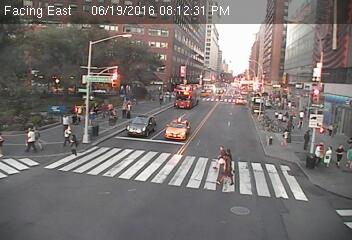neg: (128, 144, 157, 183), (27, 173, 52, 207), (111, 173, 134, 204), (224, 108, 240, 129), (202, 112, 214, 129)
pos: (212, 146, 241, 184), (293, 124, 316, 155), (328, 141, 351, 171), (57, 124, 76, 149), (311, 136, 330, 161), (67, 134, 85, 159), (22, 127, 39, 149), (277, 127, 291, 146), (323, 143, 337, 161), (122, 102, 136, 120), (155, 89, 166, 103)
